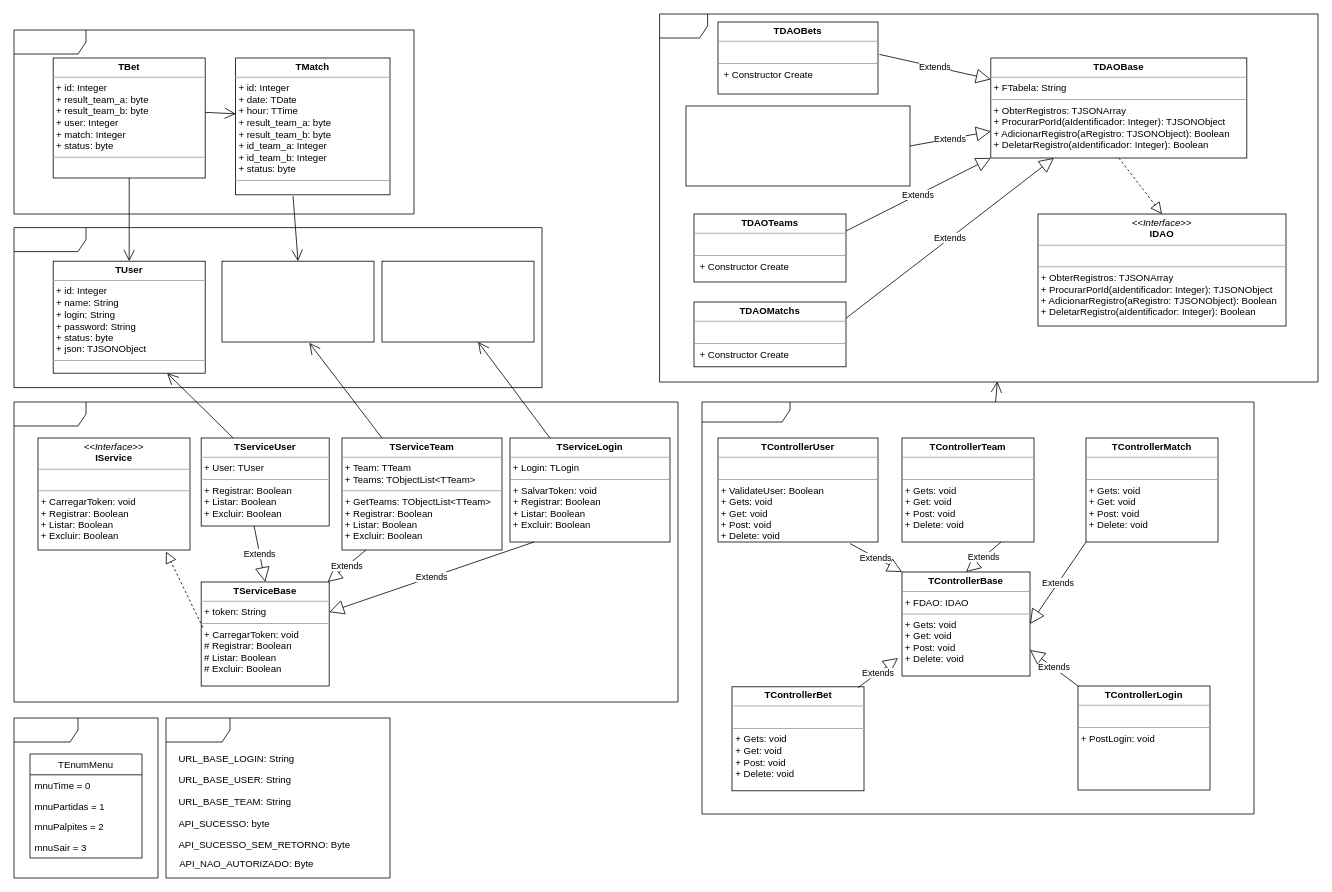
Image size: 1332x892. Some labels were removed from this diagram. Each missing label, with the box of its shape:
bets - layer: (13, 227, 542, 388)
Constants: (165, 717, 390, 878)
Controller - layer: (701, 401, 1254, 814)
dao - layer: (659, 13, 1318, 382)
Enumerators: (13, 717, 158, 878)
Match - layer: (13, 29, 414, 214)
service - layer: (13, 401, 678, 702)
TDAOUser + ValidarLogin(aUser, aPassword: String): Boolean + Constructor Create: (685, 105, 910, 186)
TLogin + login: String + password: String + token: String: (381, 260, 534, 342)
TTeam + id: Integer + name: String + json: TJSONObject: (221, 260, 374, 342)
